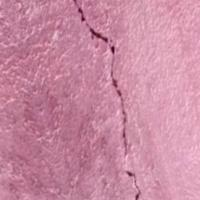crack: (62, 1, 156, 199)
